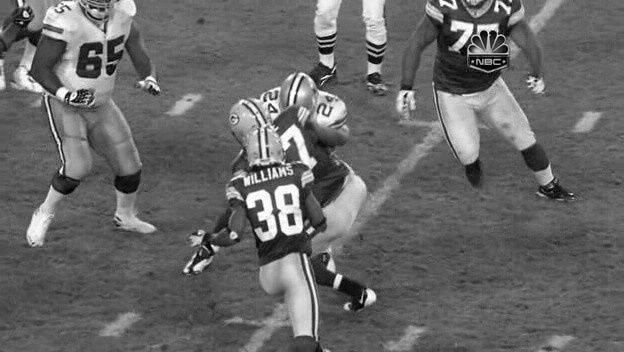person: (280, 75, 312, 116), (279, 75, 311, 116), (281, 75, 313, 116), (280, 74, 312, 115), (280, 76, 312, 117)
target_negative: (461, 6, 573, 300), (41, 166, 562, 190), (77, 288, 231, 309), (541, 163, 556, 293), (574, 266, 604, 272), (431, 319, 490, 320)
